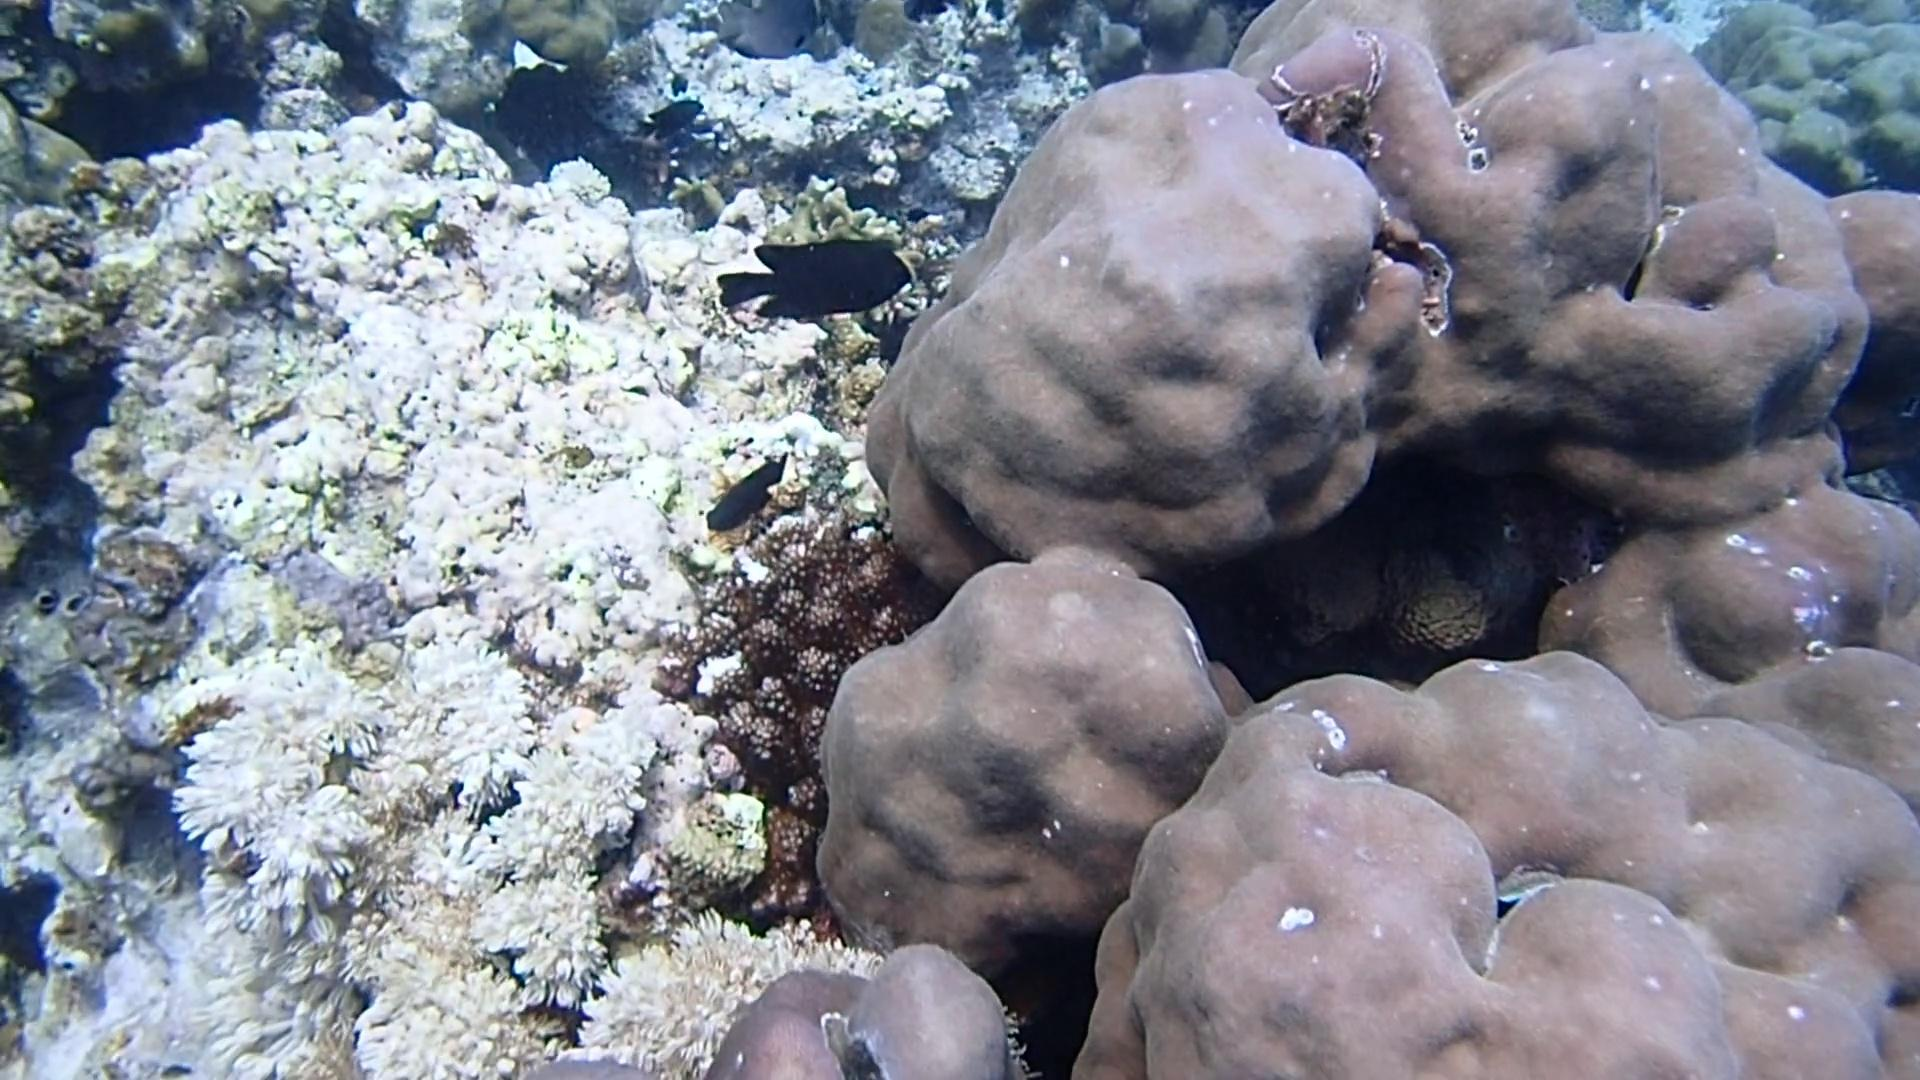Dark Fish: (708, 231, 924, 336), (703, 452, 785, 535), (632, 92, 707, 144)
